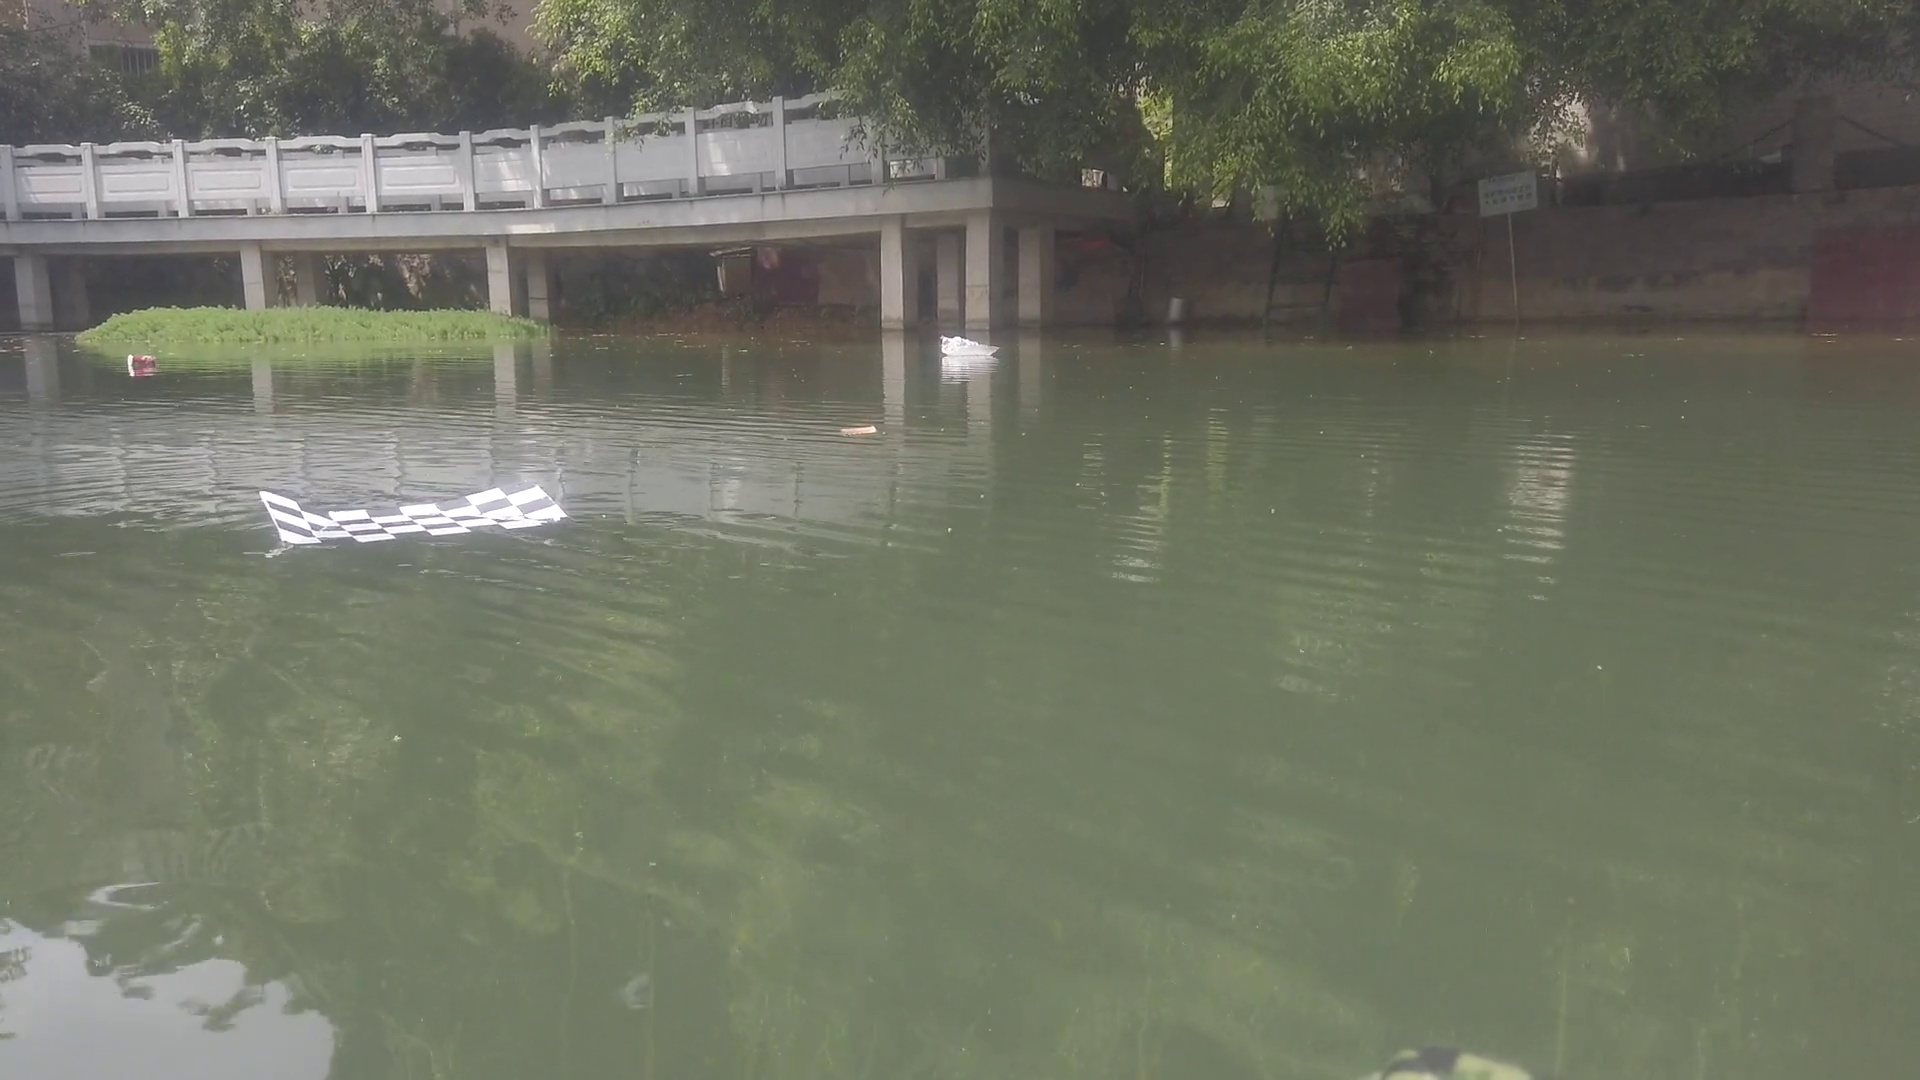bottle: (127, 351, 160, 367)
paper: (258, 483, 574, 547), (836, 425, 878, 435)
plastic: (940, 334, 1000, 360)
